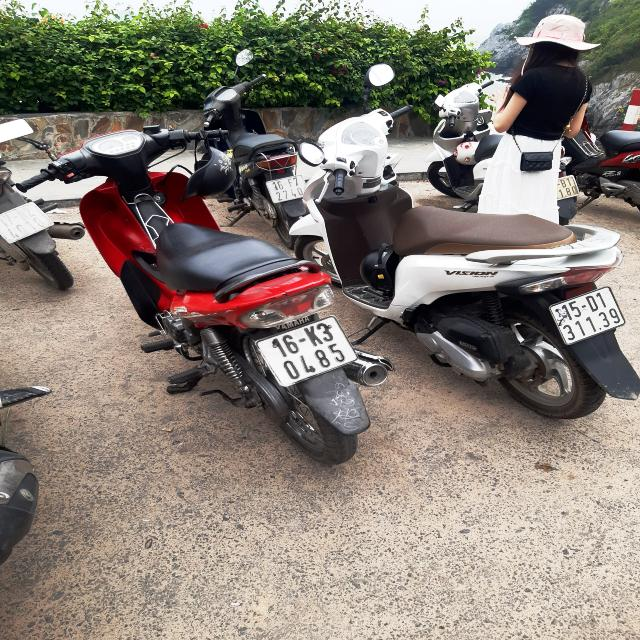license_plate: (250, 312, 369, 395), (545, 282, 633, 353), (1, 200, 64, 249)
